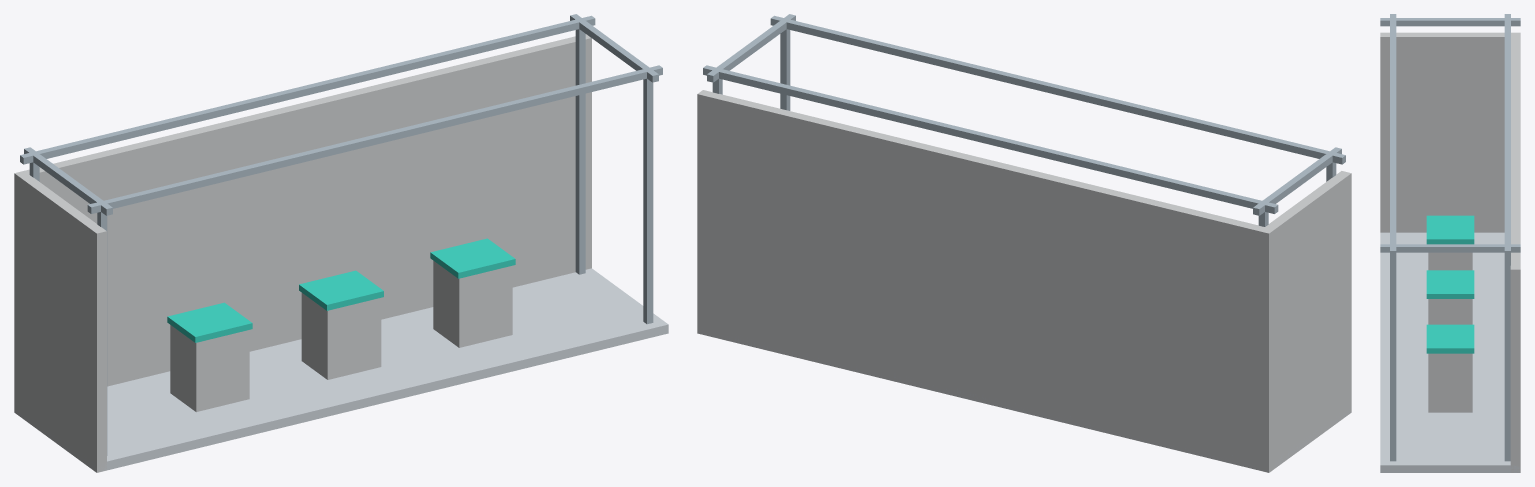
3 views of the same model, side by side, from view 1: azimuth 30°, elevation 25°; view 2: azimuth 150°, elevation 25°; view 3: azimuth 270°, elevation 25° (orthographic). The views are drawn at different scales.
Parts seen in each view (by area): view 1: Exhibition Booth Concept; view 2: Exhibition Booth Concept; view 3: Exhibition Booth Concept.
Boxes of the visible parts, left/top/right/bottom form: Exhibition Booth Concept: left=14, top=14, right=668, bottom=472; Exhibition Booth Concept: left=697, top=14, right=1351, bottom=472; Exhibition Booth Concept: left=1380, top=14, right=1520, bottom=472.
Bounding box in the file's own units: 8 × 3.49 × 2.
